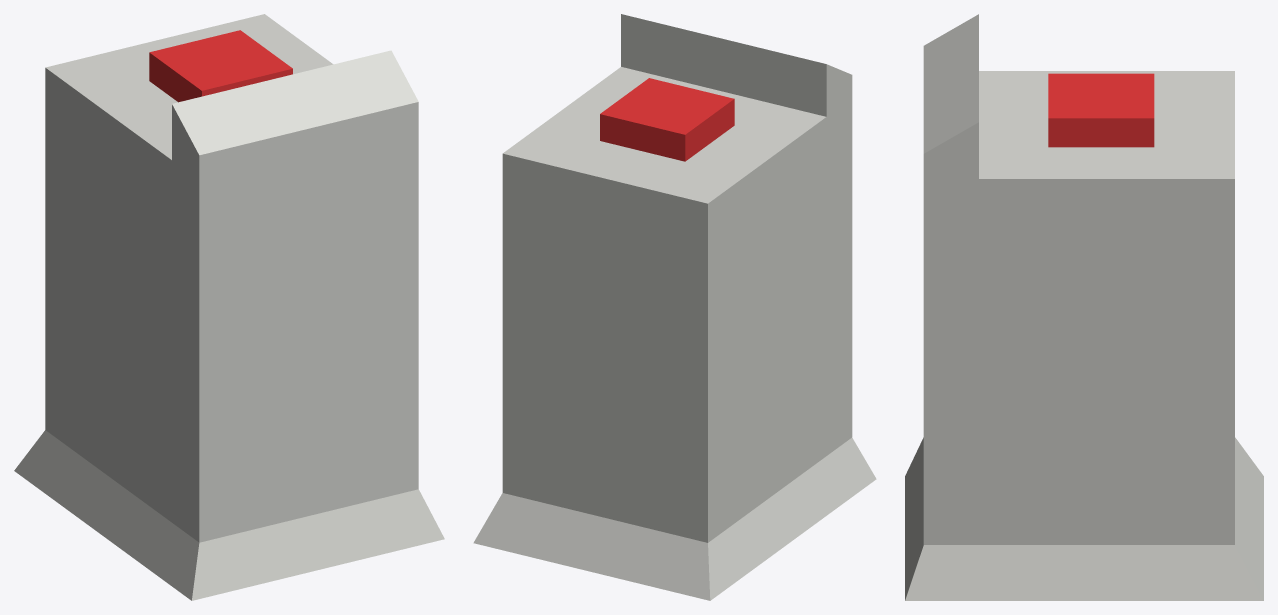
File: BtnPodium.fbx
The picture shows the model from 3 angles, left to right: view 1: azimuth 30°, elevation 25°; view 2: azimuth 150°, elevation 25°; view 3: azimuth 270°, elevation 25°; orthographic projection. The views are drawn at different scales.
Visible parts, largest first — view 1: BtnPodium, BTN; view 2: BtnPodium, BTN; view 3: BtnPodium, BTN.
Boxes of the visible parts, x1,y1,x2,y2 form: BtnPodium: (14,14,444,600); BTN: (149,30,292,102); BtnPodium: (473,14,876,600); BTN: (600,78,734,161); BtnPodium: (905,14,1263,600); BTN: (1048,73,1154,147).
Size of the model in its own units: 0.7449 by 1.08 by 0.6125.
